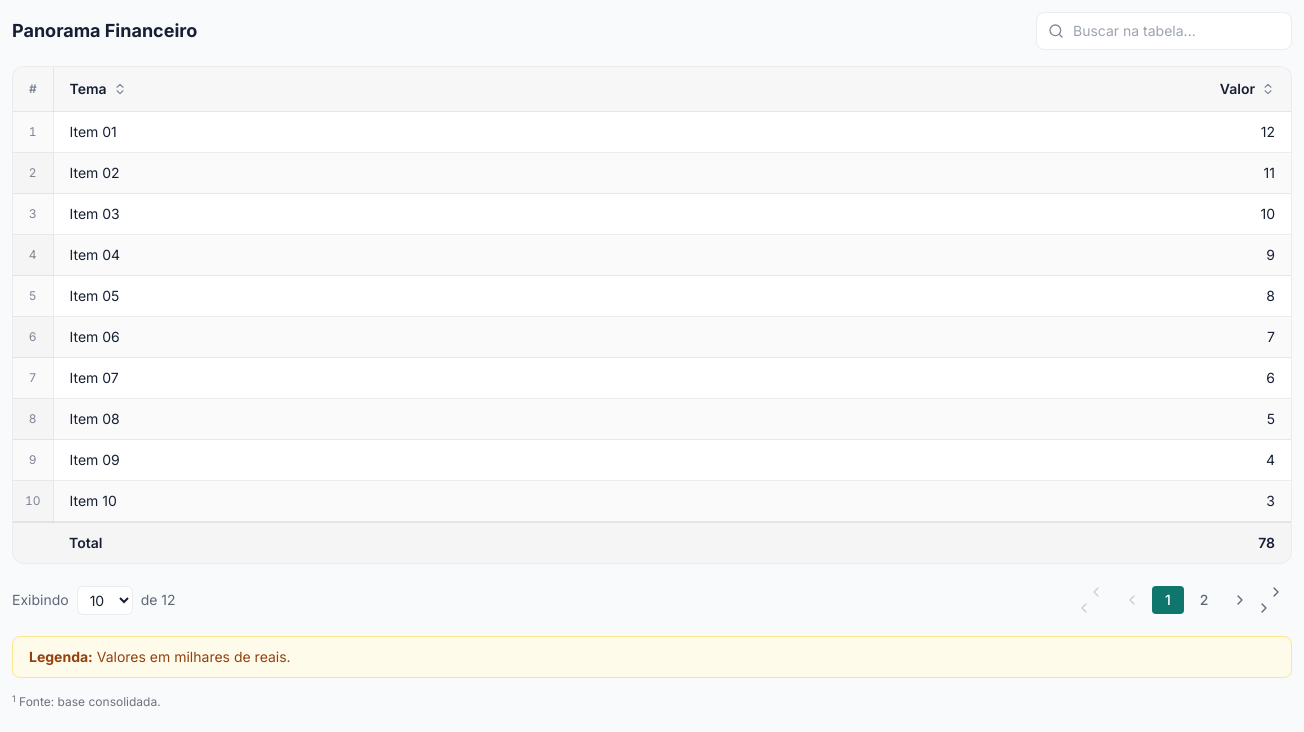
Test: DataTableViewer › sorts numerically, paginates rows, and filters by the search term
This screenshot has width=1304, height=732.
Click the text "Valor" at (1247, 89), box [1220,79,1275,99]
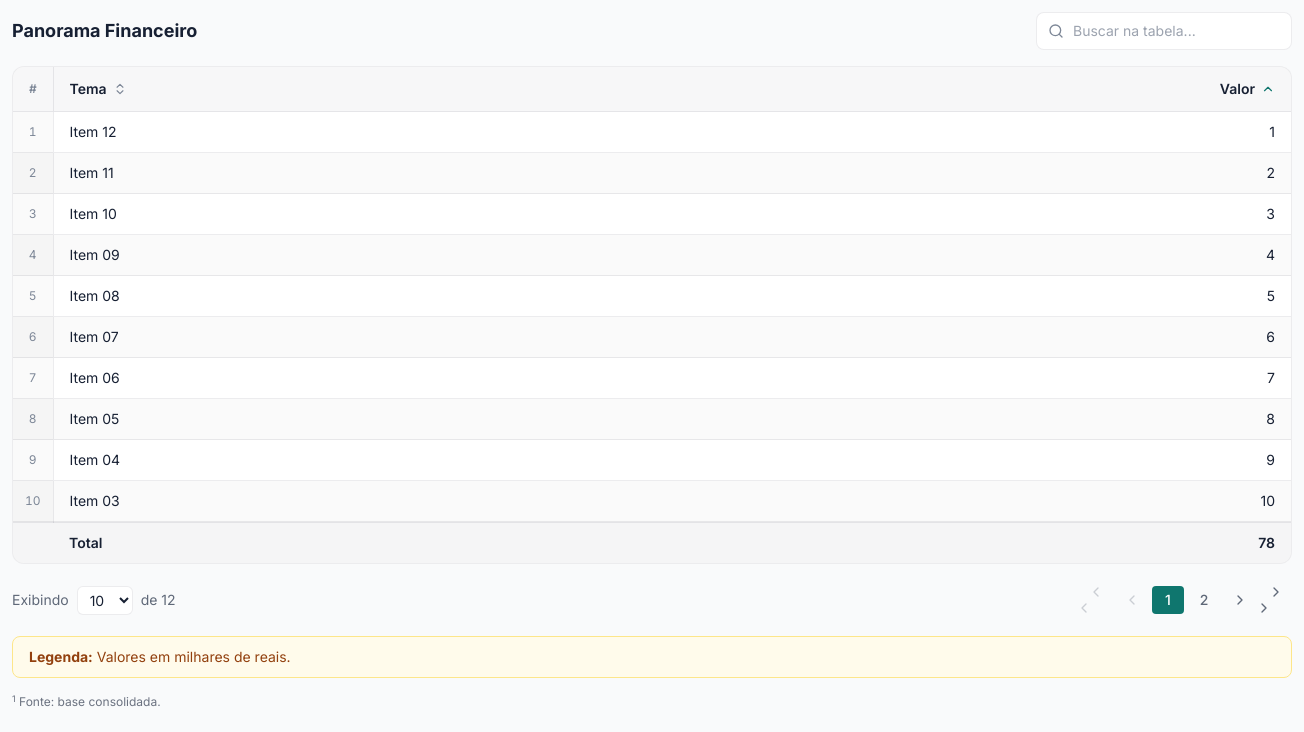
Check: the row "1 Item 12 1" is shown, box [13,112,1291,152]
Click the text "Valor" at (1247, 89), box [1220,79,1275,99]
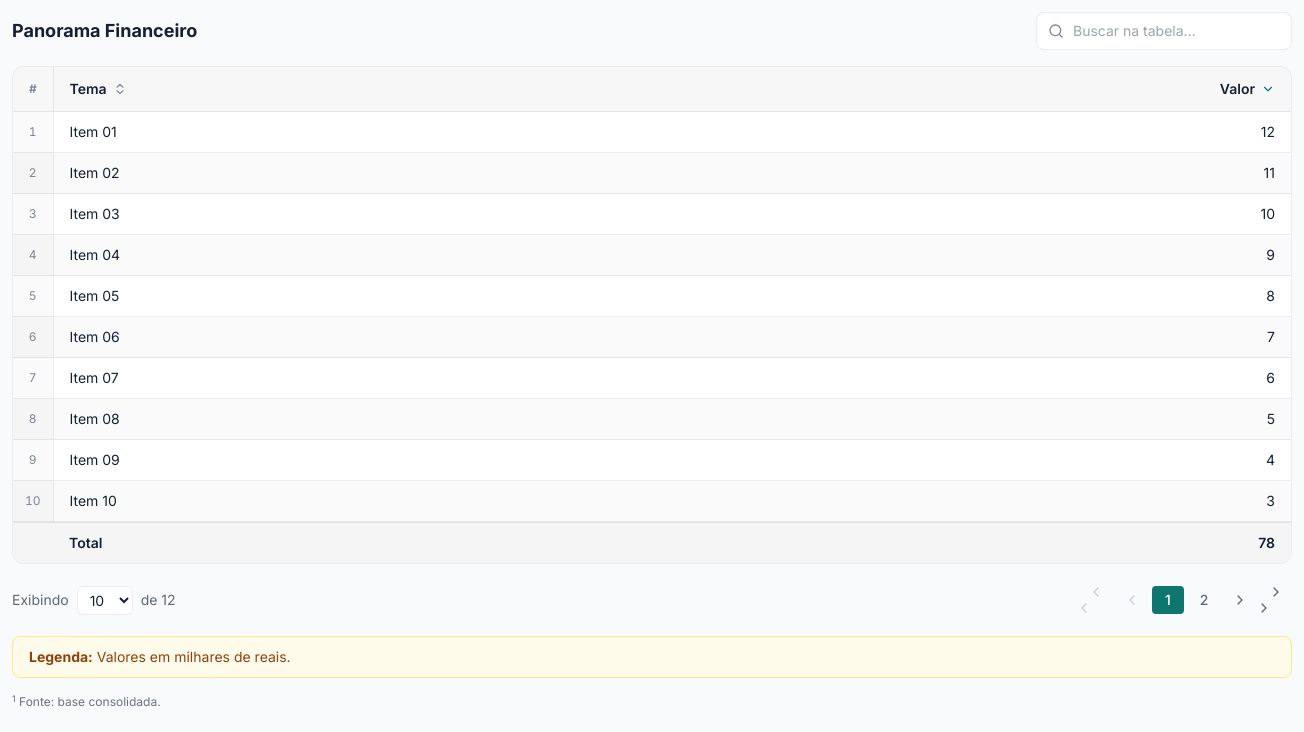
Check: the row "1 Item 01 12" is shown, box [13,112,1291,152]
Click the button titled "Proxima" at (1240, 600), box [1224,588,1256,612]
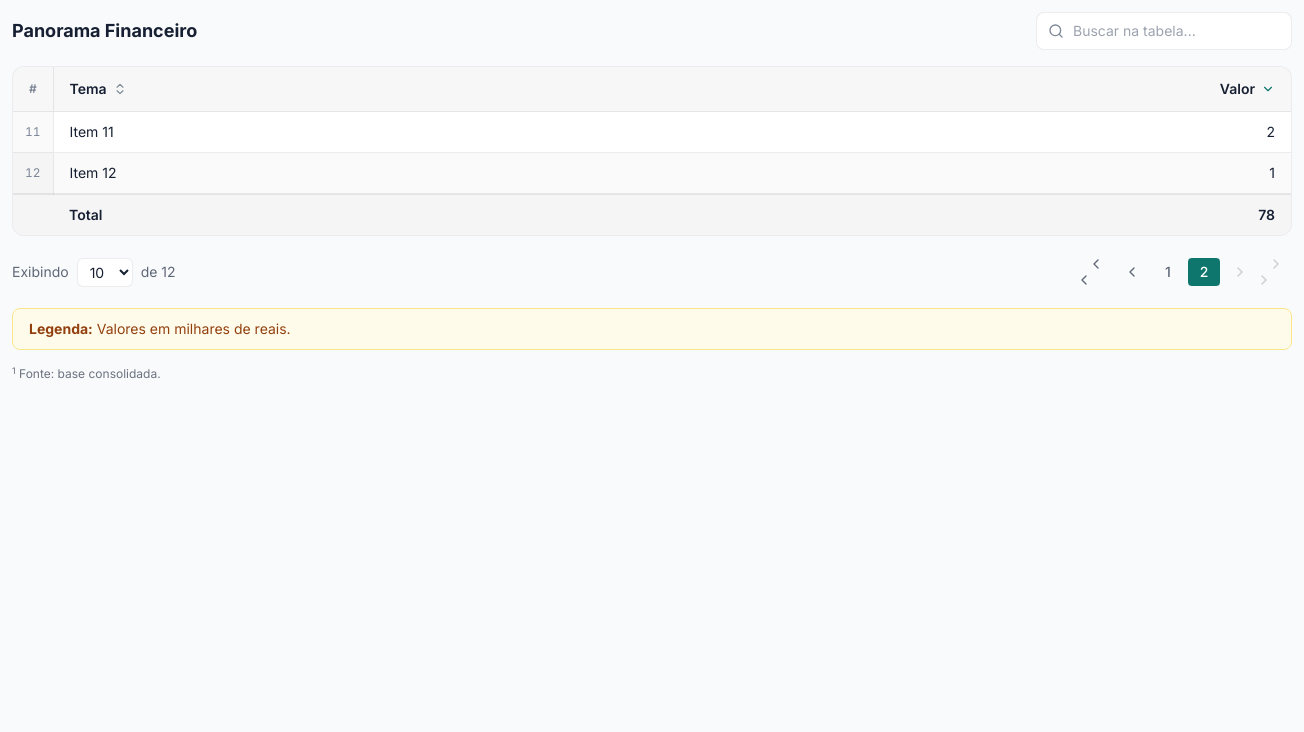
Check: the text "Item 11" is shown, box [53,112,680,152]
Check: the text "Item 12" is shown, box [53,152,680,194]
Type "Item 12" into the field with placeholder "Buscar na tabela..." at (1164, 31), box [1036,12,1292,50]
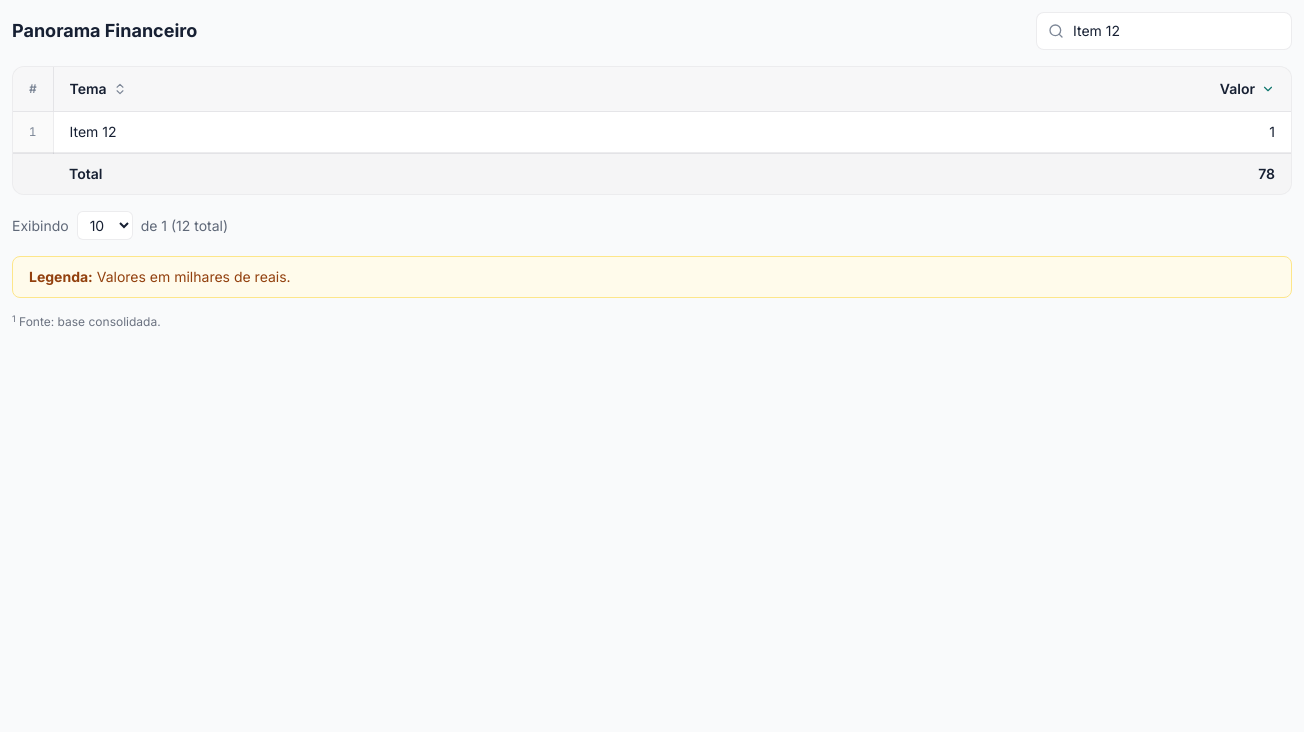
Check: the text "Item 12" is shown, box [53,112,680,153]
Check: the text "Item 11" is gone
